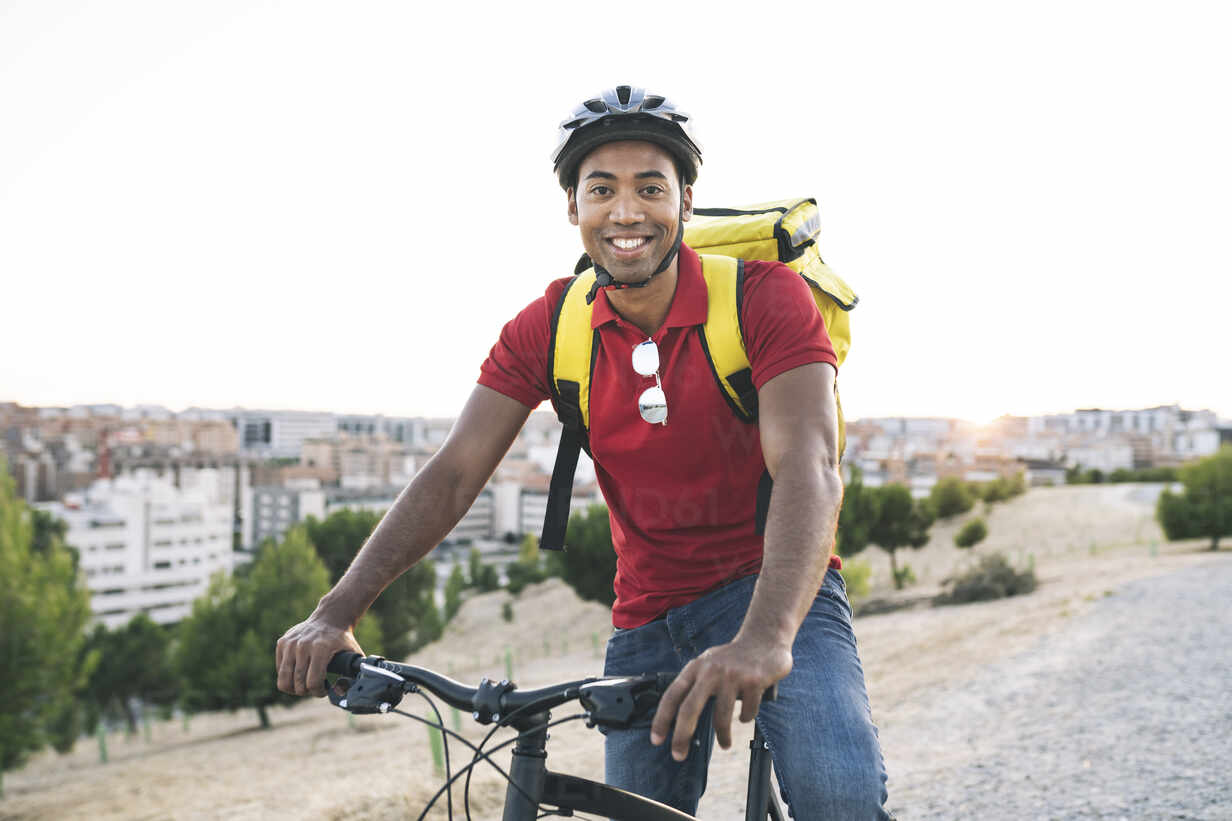helmet: (550, 81, 703, 288)
